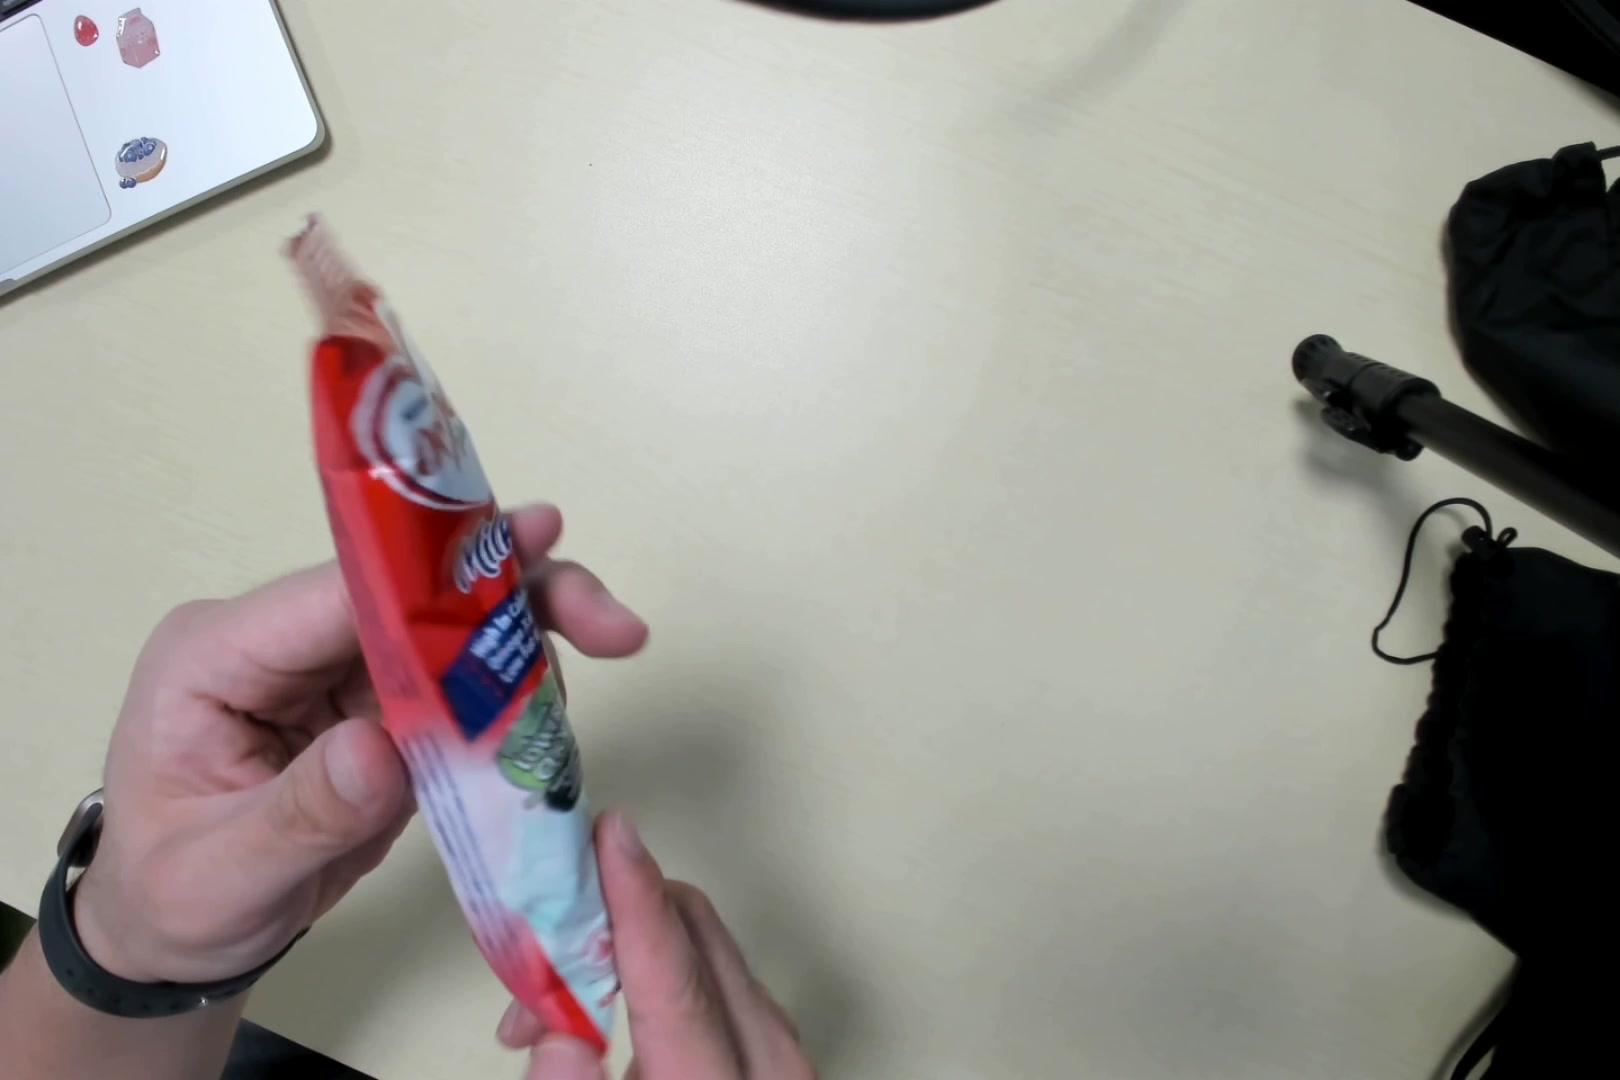MilkPowder_0-99g_Halal_NonHealthy: (282, 190, 630, 1053)
